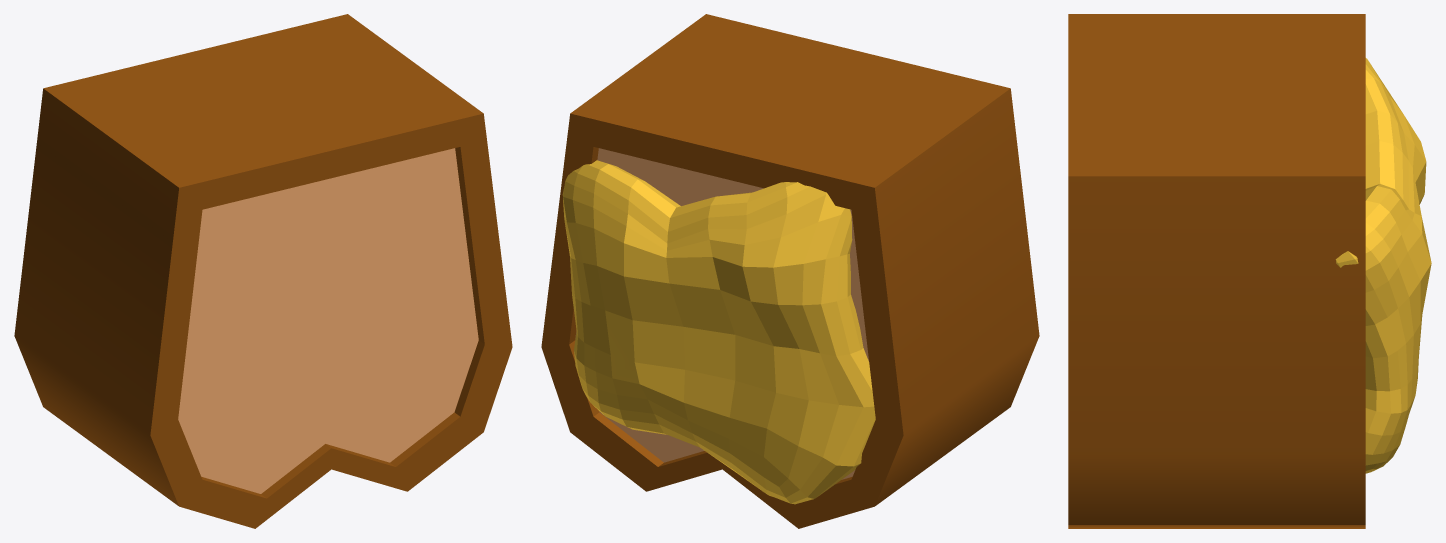
File: Buttered Toast.glb
3 renders of one model, left to right at view 1: azimuth 30°, elevation 25°; view 2: azimuth 150°, elevation 25°; view 3: azimuth 270°, elevation 25°, orthographic. The views are drawn at different scales.
Visible parts, largest first — view 1: ButteredBread_geo; view 2: ButteredBread_geo, Butter_geo; view 3: ButteredBread_geo, Butter_geo.
Boxes of the visible parts, box(x1,y1,x2,y2) form: ButteredBread_geo: box(14, 14, 512, 528); ButteredBread_geo: box(541, 14, 1039, 528); Butter_geo: box(562, 160, 875, 504); ButteredBread_geo: box(1068, 14, 1365, 528); Butter_geo: box(1335, 58, 1431, 473).
Size of the model in its own units: 5.21 by 4.94 by 4.14.
